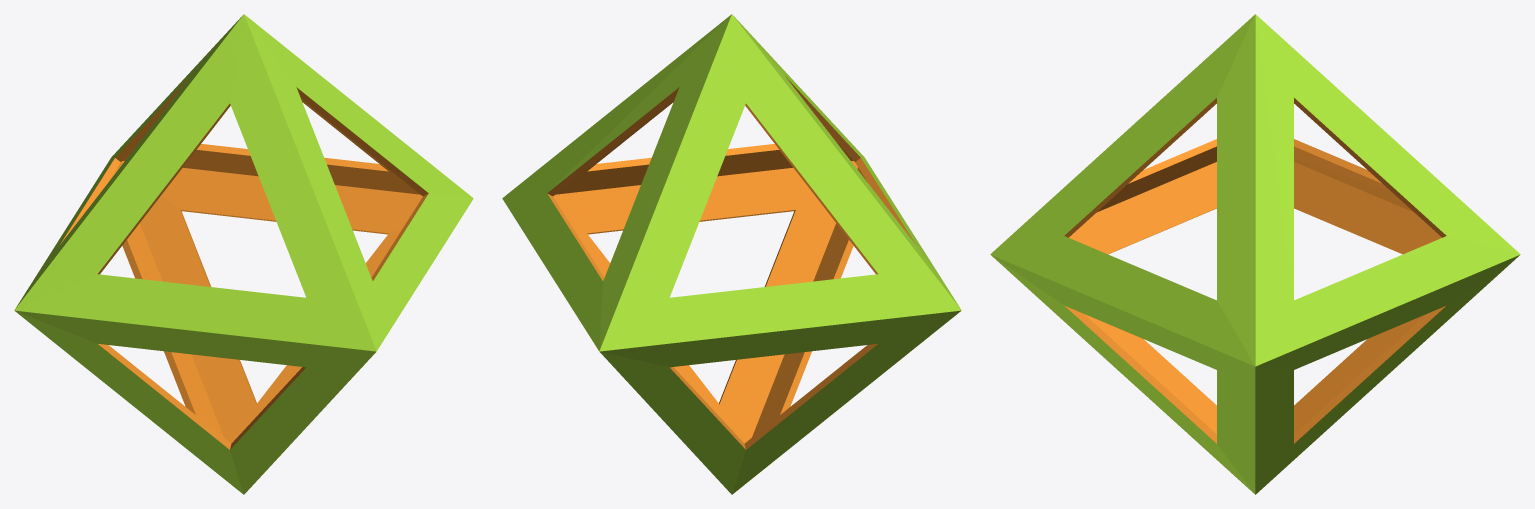
File: OctahedronS1.glb
3 views of the same model, side by side, from view 1: azimuth 30°, elevation 25°; view 2: azimuth 150°, elevation 25°; view 3: azimuth 270°, elevation 25° (orthographic).
Visible parts, largest first — view 1: Mesh_0003_1, Mesh_0003; view 2: Mesh_0003_1, Mesh_0003; view 3: Mesh_0003_1, Mesh_0003.
Part boxes in pixels (x1,y1,x2,y2): Mesh_0003_1: (14, 14, 473, 494); Mesh_0003: (60, 76, 428, 449); Mesh_0003_1: (502, 14, 961, 494); Mesh_0003: (547, 76, 915, 449); Mesh_0003_1: (990, 14, 1520, 494); Mesh_0003: (1064, 98, 1446, 443).
Size of the model in its own units: 1.43 by 1.43 by 1.43.
